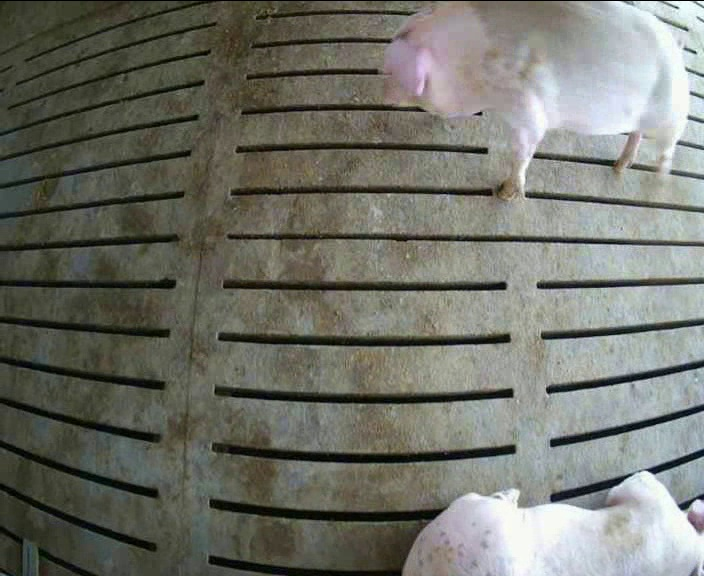pig: (386, 2, 688, 200), (403, 471, 703, 574)
